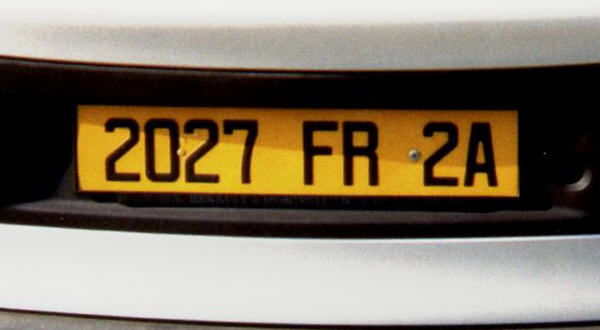license_plate: (72, 100, 522, 198)
